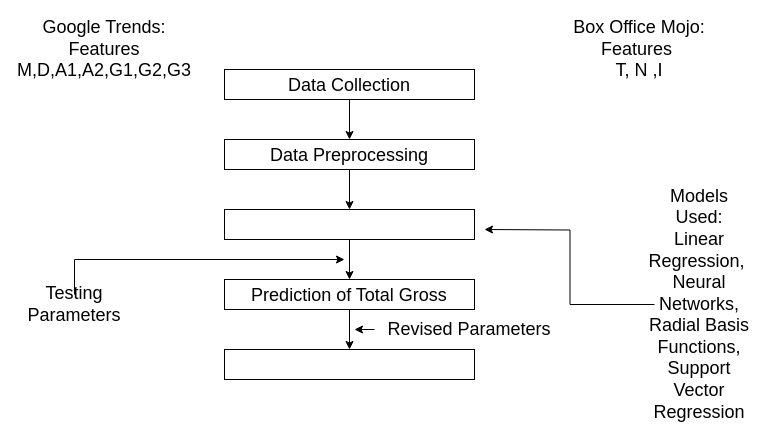
Some shapes in this 767 by 441 pixel diagram are drawn without their labels. The shapes that lost their labels are listed below. From the top down, each one's centre as x and y in pixels, then its label:
At point (349, 224): "Training Model".
At point (349, 364): "Increased Profit".
